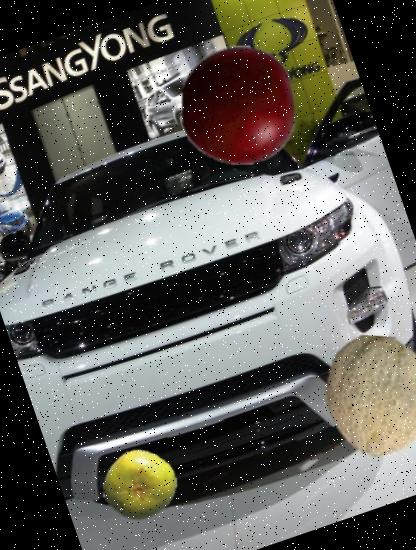Cantaloupe: (301, 318, 416, 473)
Cherry: (162, 28, 315, 182)
Pomelo: (94, 438, 188, 532)
